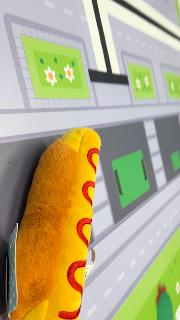hotdog: (8, 126, 102, 320)
